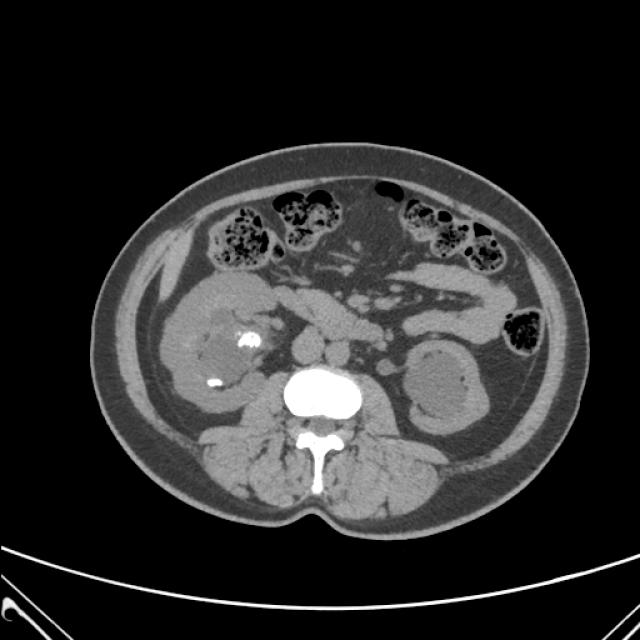kidney: (155, 266, 287, 416), (376, 338, 500, 441)
stone: (232, 326, 266, 352), (204, 373, 226, 388)
